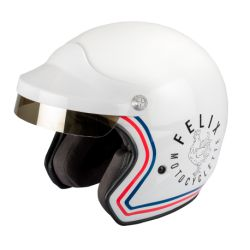with_helmet: (13, 17, 231, 228)
